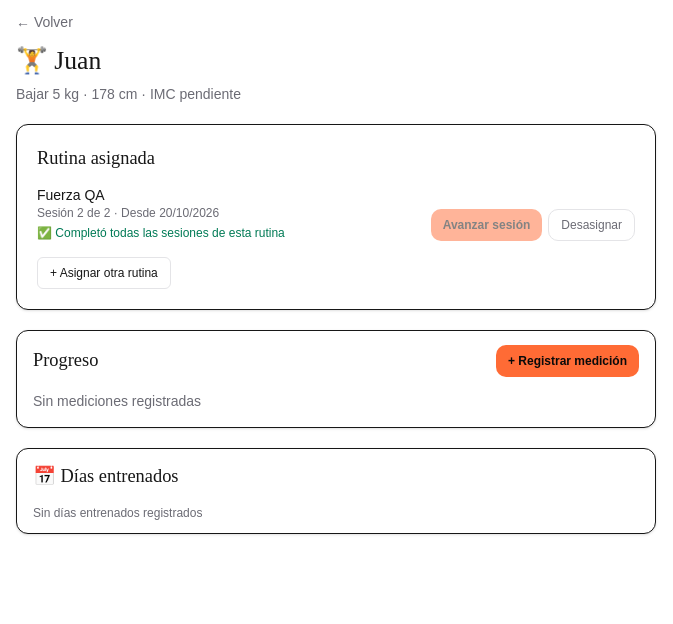
Test: DetalleAlumno (R6: asignar / cambiar / avanzar) › con la rutina terminada: lo dice, deshabilita 'Avanzar sesión' y ofrece asignar otra
This screenshot has width=673, height=624.
Expected: the text "✅ Completó todas las sesiones de esta rutina" is shown, left=37, top=225, right=285, bottom=241
Expected: the button "Avanzar sesión" is disabled, left=431, top=209, right=542, bottom=241
Click the button "+ Asignar otra rutina": click(104, 273) left=37, top=257, right=171, bottom=289
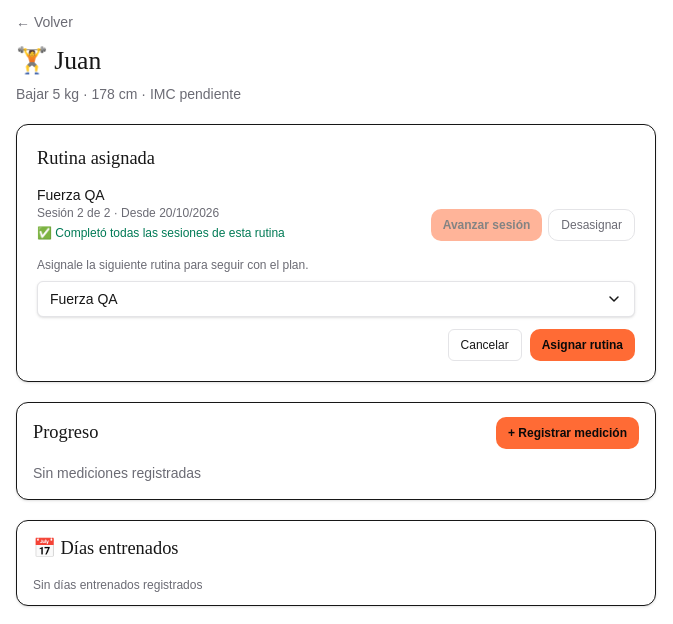
Expected: the button "Asignar rutina" is shown, left=530, top=329, right=635, bottom=361
Expected: the dropdown named "Rutina del alumno" is shown, left=37, top=281, right=635, bottom=317
